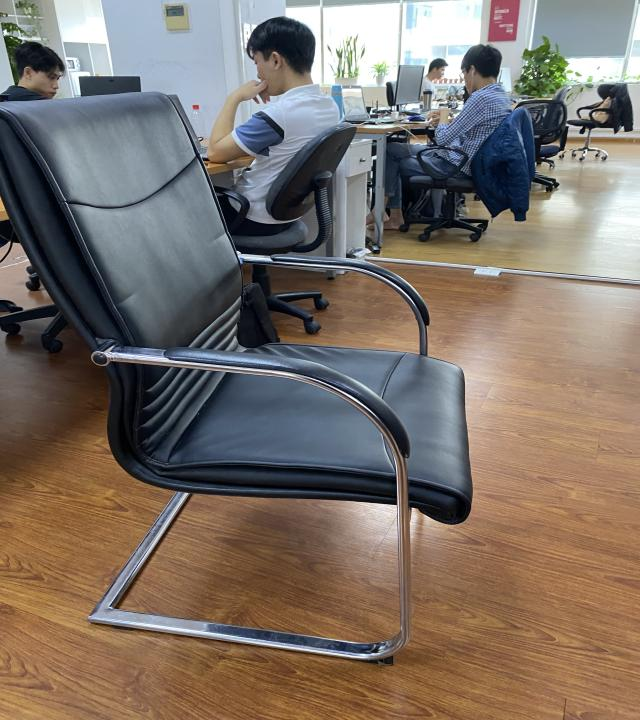SS_03: (0, 89, 475, 665)
